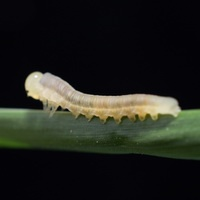insect: (25, 72, 180, 122)
